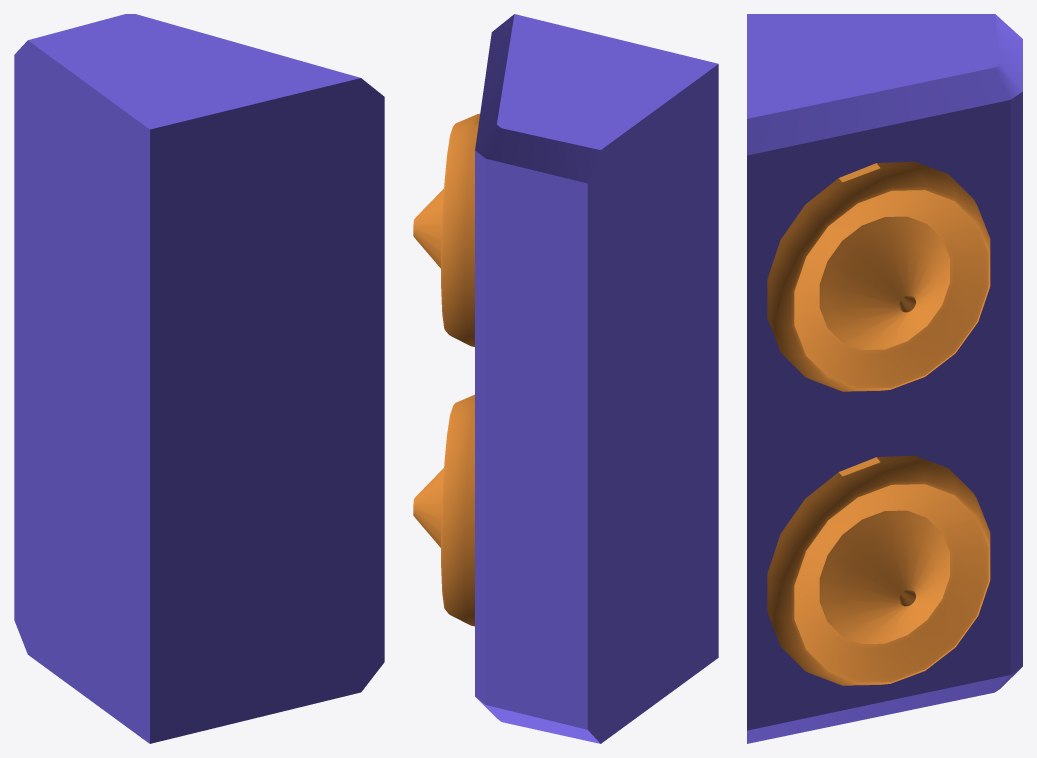
Rendered from SM_Fan_50x20.fbx.
3 views of the same model, side by side, from view 1: azimuth 30°, elevation 25°; view 2: azimuth 150°, elevation 25°; view 3: azimuth 270°, elevation 25° (orthographic). The views are drawn at different scales.
Visible parts, largest first — view 1: SM_Fan_50x20:Fan_50x020; view 2: SM_Fan_50x20:Fan_50x020, SM_Fan_50x20:Cylinder005, SM_Fan_50x20:Cylinder006; view 3: SM_Fan_50x20:Fan_50x020, SM_Fan_50x20:Cylinder006, SM_Fan_50x20:Cylinder005.
Part boxes in pixels (x1,y1,x2,y2): SM_Fan_50x20:Fan_50x020: [14, 14, 384, 743]; SM_Fan_50x20:Fan_50x020: [475, 14, 718, 743]; SM_Fan_50x20:Cylinder005: [413, 113, 479, 346]; SM_Fan_50x20:Cylinder006: [413, 394, 474, 626]; SM_Fan_50x20:Fan_50x020: [747, 14, 1022, 743]; SM_Fan_50x20:Cylinder006: [767, 455, 990, 685]; SM_Fan_50x20:Cylinder005: [767, 161, 990, 391].
Bounding box in the file's own units: 20.92 × 50 × 20.
